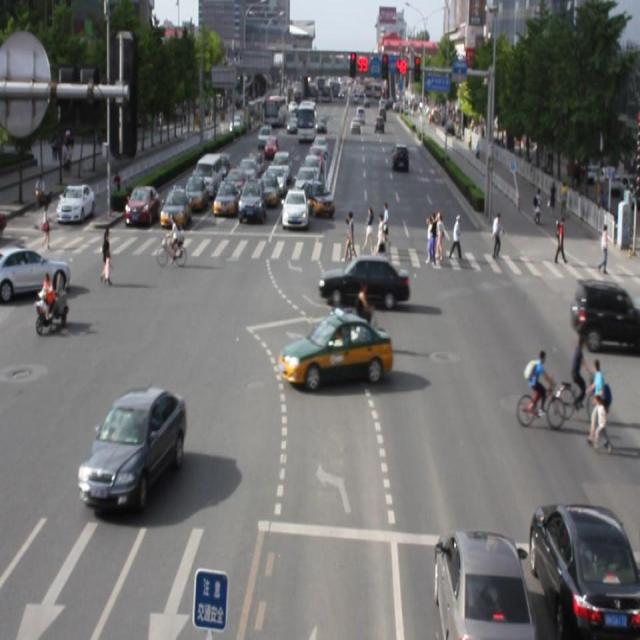car: (523, 495, 640, 640), (77, 385, 188, 510), (429, 524, 530, 640), (277, 313, 391, 391), (319, 252, 411, 307)
